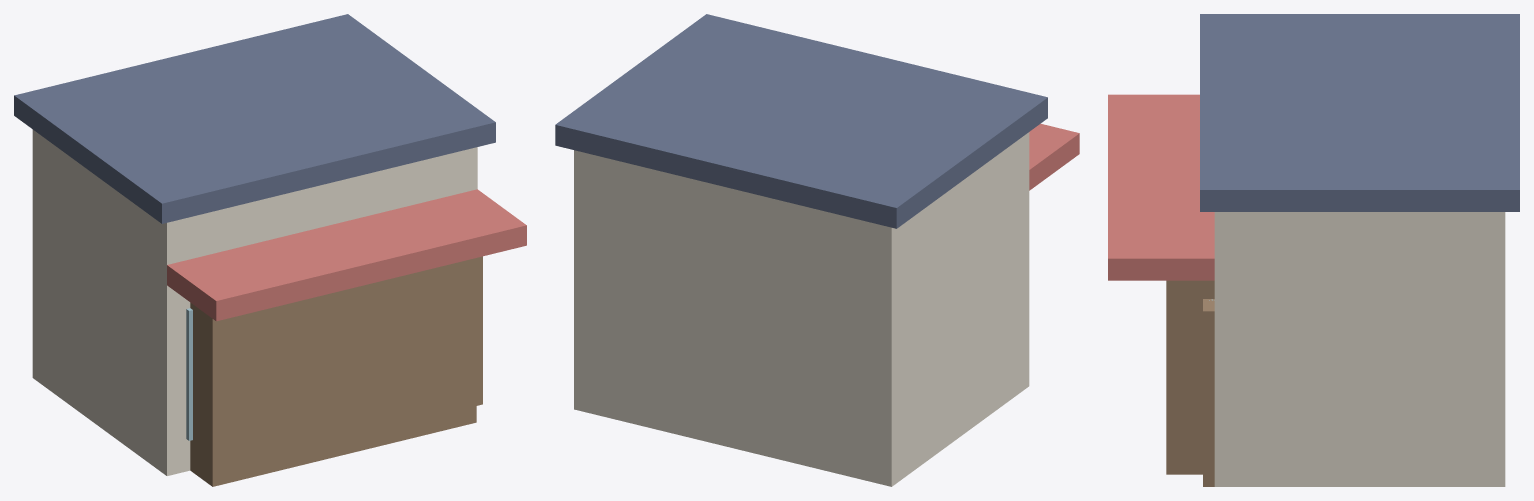
File: shophouse_2f.fbx
The picture shows the model from 3 angles, left to right: view 1: azimuth 30°, elevation 25°; view 2: azimuth 150°, elevation 25°; view 3: azimuth 270°, elevation 25°; orthographic projection. The views are drawn at different scales.
Parts seen in each view (by area): view 1: shophouse_2f; view 2: shophouse_2f; view 3: shophouse_2f.
Boxes of the visible parts, x1,y1,x2,y2 form: shophouse_2f: (14,14,526,486); shophouse_2f: (555,14,1079,486); shophouse_2f: (1108,14,1519,486).
Bounding box in the file's own units: 430 × 345 × 425.
